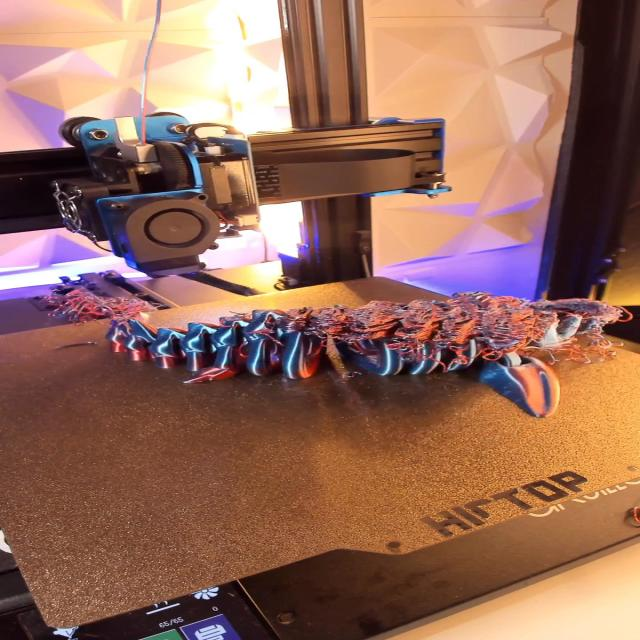spaghetti: (290, 301, 640, 373), (26, 296, 86, 328)
